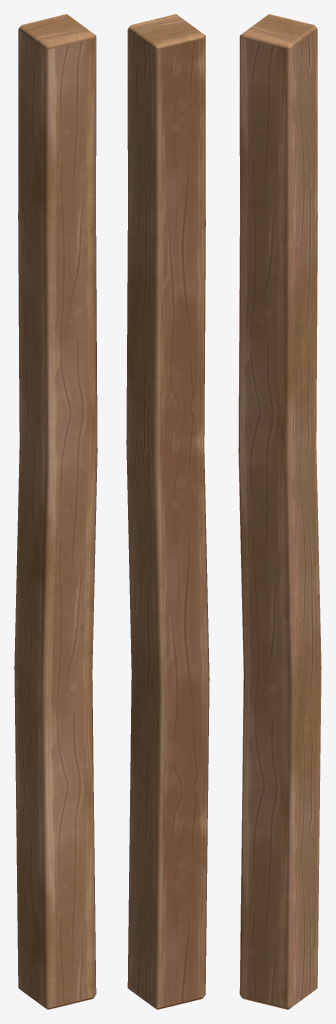
The model's file is SM_Column_02.gltf.
3 views of the same model, side by side, from view 1: azimuth 30°, elevation 25°; view 2: azimuth 210°, elevation 25°; view 3: azimuth 330°, elevation 25° (orthographic).
Visible parts, largest first — view 1: SM_Column_02_LOD0; view 2: SM_Column_02_LOD0; view 3: SM_Column_02_LOD0.
Boxes of the visible parts, bbox=[...] form: SM_Column_02_LOD0: bbox=[14, 14, 97, 1009]; SM_Column_02_LOD0: bbox=[126, 14, 209, 1009]; SM_Column_02_LOD0: bbox=[238, 14, 321, 1009].
Size of what is drawn, in the model's own units: 0.3 by 5.33 by 0.3511.
Materials: 1 (1 with a texture image).
